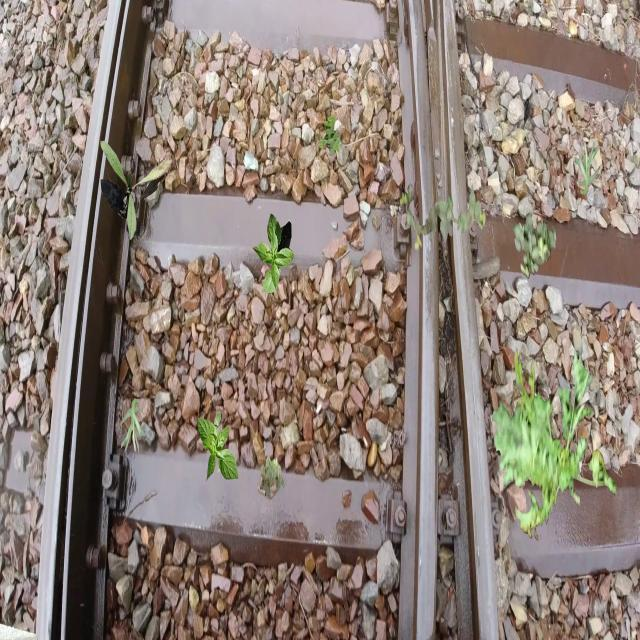Plant: (492, 345, 617, 541), (100, 140, 172, 240), (400, 183, 487, 252), (252, 214, 294, 294), (197, 412, 238, 483), (513, 213, 556, 280), (119, 398, 146, 454), (574, 139, 600, 196), (260, 455, 286, 498), (318, 115, 342, 156)
